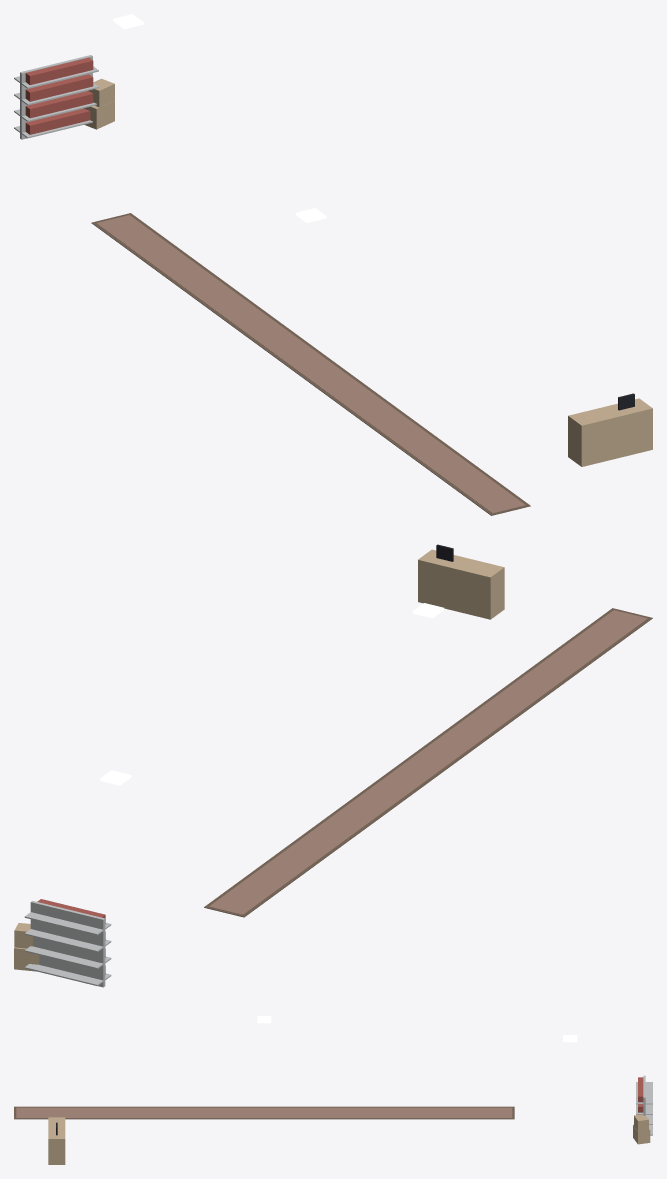
Rendered from fine-s0.glb.
The picture shows the model from 3 angles, top to bottom: view 1: azimuth 30°, elevation 25°; view 2: azimuth 150°, elevation 25°; view 3: azimuth 270°, elevation 25°; orthographic projection. The views are drawn at different scales.
Parts seen in each view (by area): view 1: soft-s0, shelving.000, shop-counter.000, cardboard-box.000; view 2: soft-s0, shelving.000, shop-counter.000, cardboard-box.000; view 3: soft-s0, shop-counter.000, shelving.000, cardboard-box.000.
Boxes of the visible parts, left/top/right/bottom form: soft-s0: left=91, top=213, right=530, bottom=515; shelving.000: left=14, top=55, right=98, bottom=139; shop-counter.000: left=568, top=393, right=652, bottom=466; cardboard-box.000: left=84, top=78, right=114, bottom=129; soft-s0: left=204, top=608, right=652, bottom=917; shelving.000: left=24, top=899, right=111, bottom=987; shop-counter.000: left=418, top=544, right=504, bottom=619; cardboard-box.000: left=14, top=923, right=39, bottom=971; soft-s0: left=14, top=1106, right=514, bottom=1119; shop-counter.000: left=48, top=1117, right=65, bottom=1164; shelving.000: left=636, top=1075, right=652, bottom=1135; cardboard-box.000: left=633, top=1114, right=650, bottom=1144.
Size of the model in its own units: 4.78 by 3.63 by 22.36.
